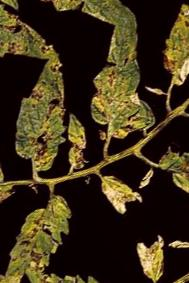Tomato Septoria leaf spot: (57, 12, 189, 157), (0, 51, 109, 180), (0, 188, 93, 283), (142, 107, 189, 209), (138, 0, 189, 93)
